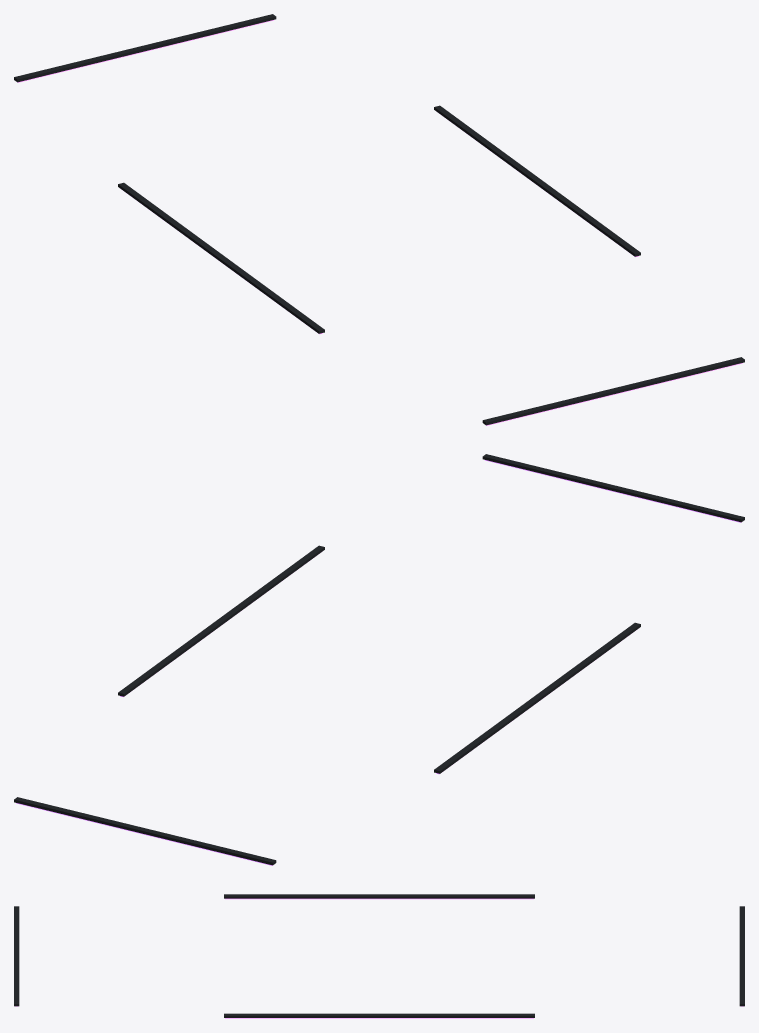
File: underglow_purple.glb
3 views of the same model, one above another, from view 1: azimuth 30°, elevation 25°; view 2: azimuth 150°, elevation 25°; view 3: azimuth 270°, elevation 25° (orthographic). The views are drawn at different scales.
Parts seen in each view (by area): view 1: model; view 2: model; view 3: model.
Part boxes in pixels (x1,y1,x2,y2): model: (14,14,744,425); model: (14,454,744,865); model: (14,894,744,1018).
Size of the model in its own units: 1.49 by 0.018 by 3.78.
2 materials, 1 textured.
